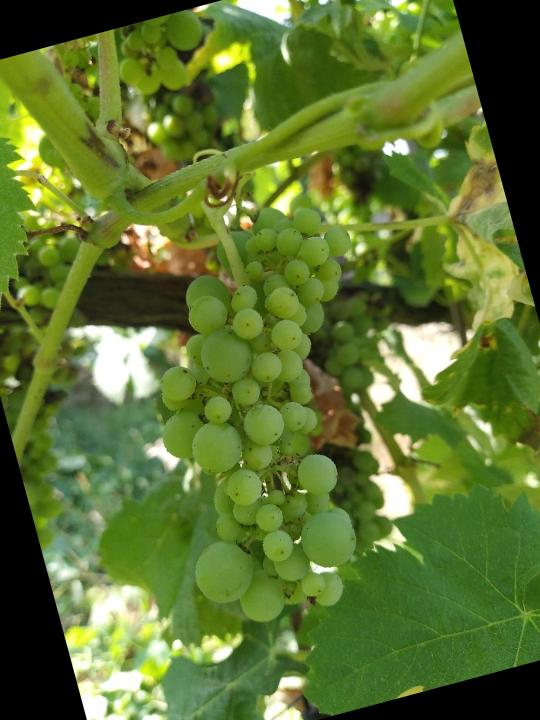grape: (105, 183, 445, 642)
